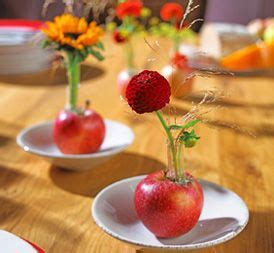apple: (132, 167, 204, 240), (49, 107, 108, 159)
